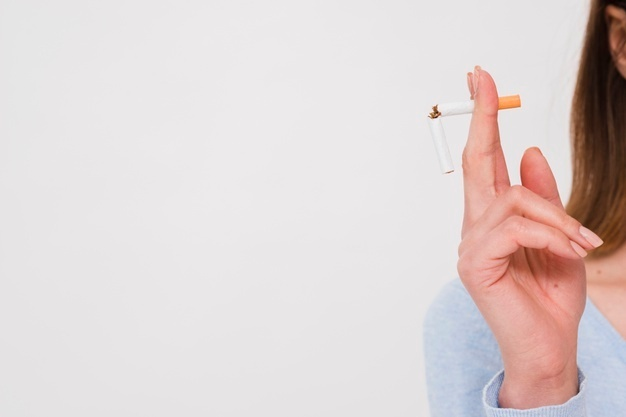sigaretta: (413, 96, 535, 168)
